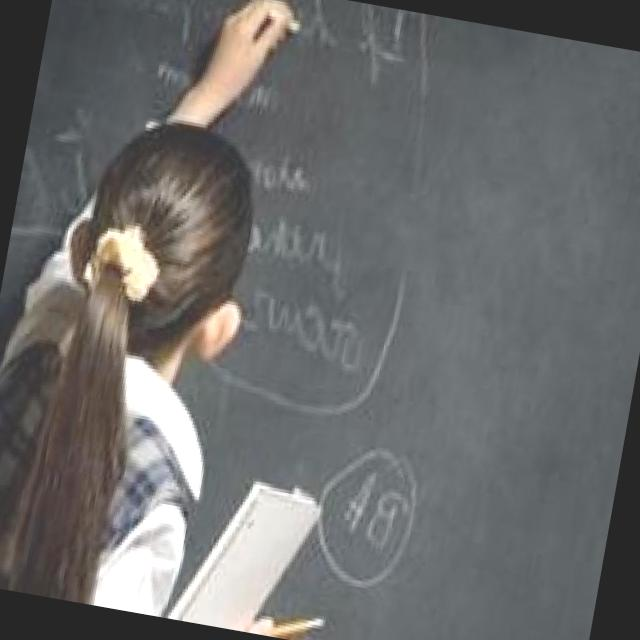no_vest: (0, 327, 230, 621)
